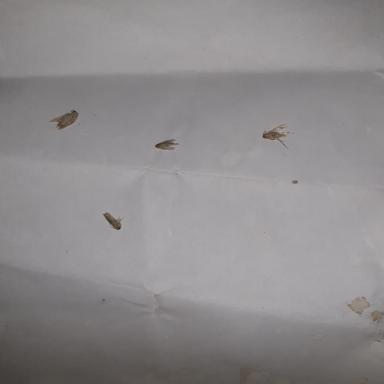pbw: (262, 124, 289, 148), (48, 110, 79, 129), (103, 211, 124, 230), (154, 138, 179, 150)
